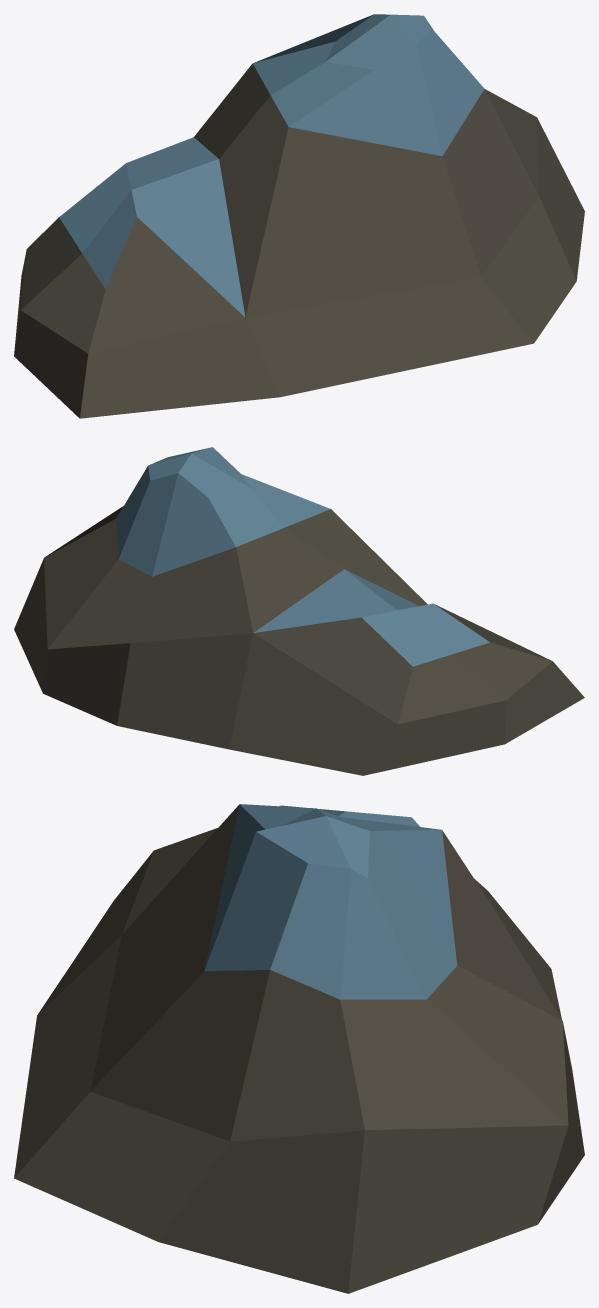
The model's file is Gora2.fbx.
3 renders of one model, top to bottom at view 1: azimuth 30°, elevation 25°; view 2: azimuth 150°, elevation 25°; view 3: azimuth 270°, elevation 25°, orthographic. The views are drawn at different scales.
Visible parts, largest first — view 1: Gora2; view 2: Gora2; view 3: Gora2.
Part boxes in pixels (<box>): Gora2: <box>14,14,584,418</box>; Gora2: <box>14,447,584,775</box>; Gora2: <box>14,804,584,1293</box>.
Size of the model in its own units: 295105 by 120236 by 181228.
